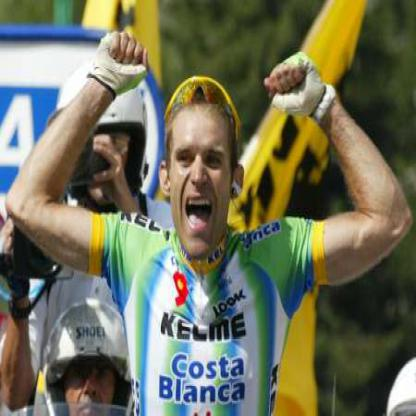face: (168, 78, 234, 257)
